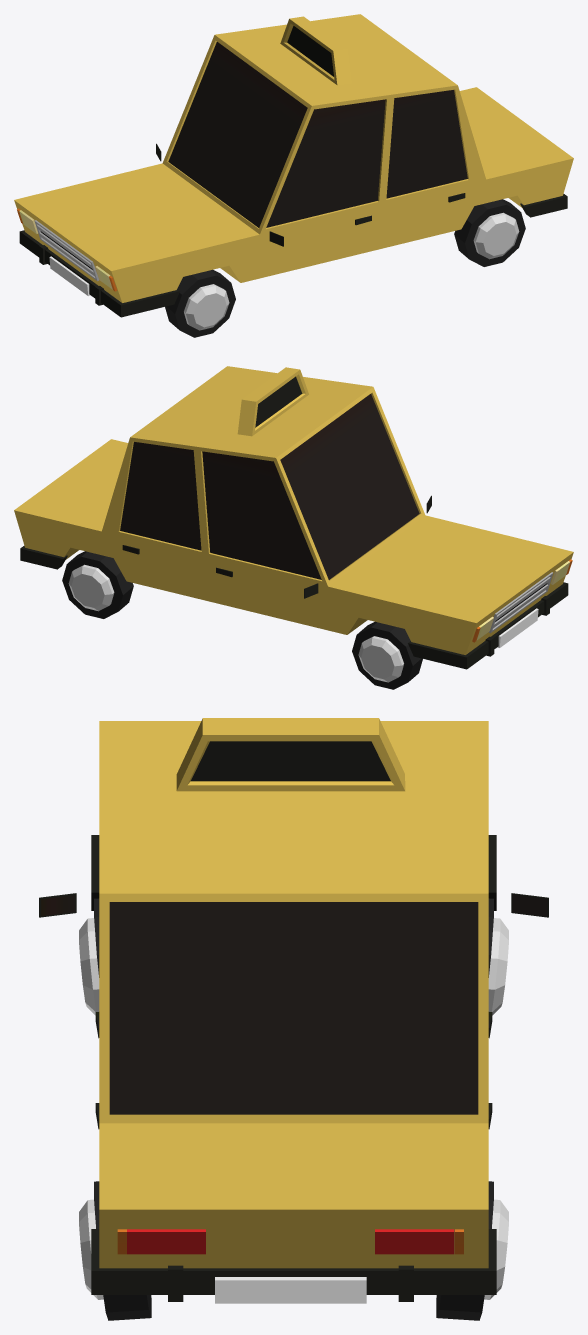
The model's file is GLB_Coche_03.glb.
3 renders of one model, top to bottom at view 1: azimuth 30°, elevation 25°; view 2: azimuth 150°, elevation 25°; view 3: azimuth 270°, elevation 25°, orthographic. The views are drawn at different scales.
Parts seen in each view (by area): view 1: Coche_03_00; view 2: Coche_03_00; view 3: Coche_03_00.
Boxes of the visible parts, box(x1,y1,x2,y2) form: Coche_03_00: box(14, 14, 573, 337); Coche_03_00: box(14, 366, 573, 689); Coche_03_00: box(39, 718, 548, 1320).
Size of the model in its own units: 9.73 by 4.62 by 4.65.
Materials: 1 (1 with a texture image).
